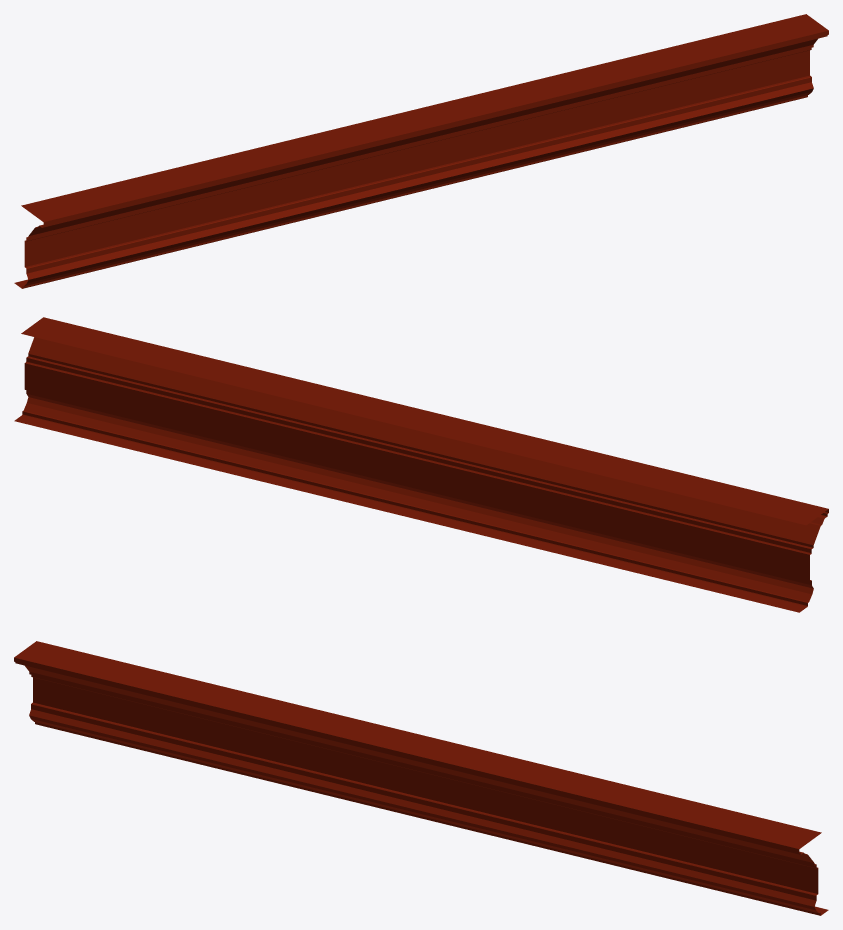
The model's file is SM_WoodMolding01_Frame.fbx.
The picture shows the model from 3 angles, top to bottom: view 1: azimuth 30°, elevation 25°; view 2: azimuth 150°, elevation 25°; view 3: azimuth 330°, elevation 25°; orthographic projection.
Visible parts, largest first — view 1: SM_WoodMolding01_Frame; view 2: SM_WoodMolding01_Frame; view 3: SM_WoodMolding01_Frame.
Boxes of the visible parts, x1,y1,x2,y2 form: SM_WoodMolding01_Frame: (14, 14, 828, 288); SM_WoodMolding01_Frame: (14, 317, 828, 612); SM_WoodMolding01_Frame: (14, 641, 828, 915).
Size of the model in its own units: 2 by 0.2003 by 0.1301.
